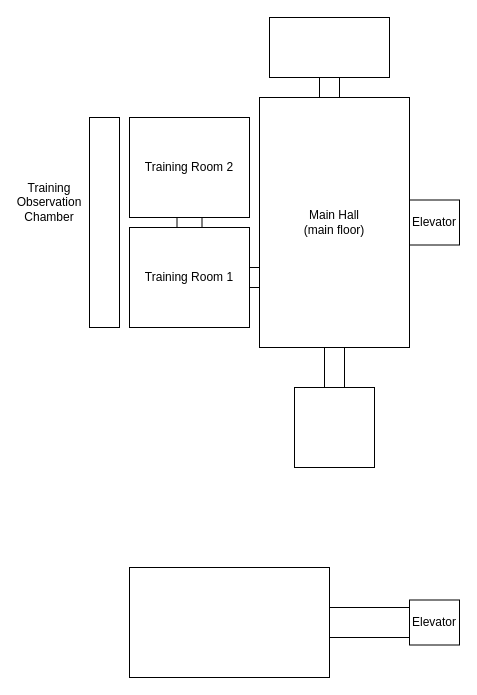
The diagram is 477 pixels wide and 695 high, and some of its shapes have lost their labels. Here are the shapes that lost their labels. From the top down, the box of each, then its label:
(268, 16, 390, 78): System Room
(294, 386, 374, 468): Observation Lab (#44)
(128, 566, 330, 678): Generator Room (-2)
